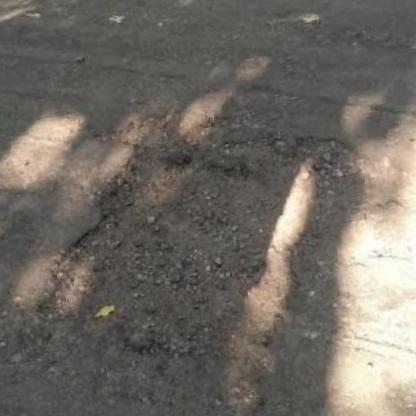pothole: (48, 121, 353, 309)
